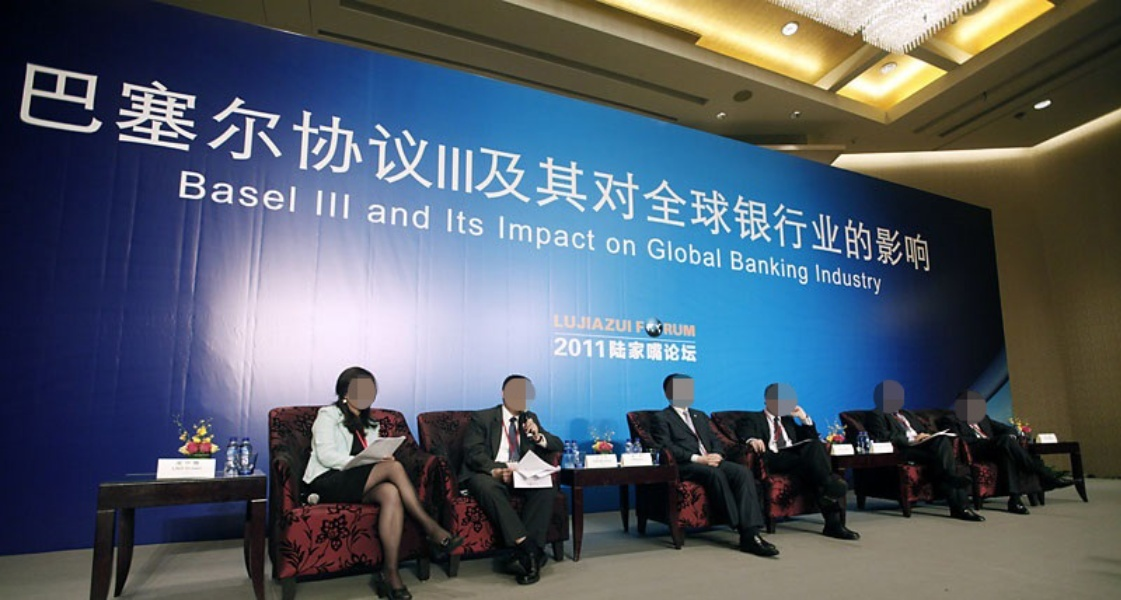text: (33, 57, 48, 278), (49, 57, 64, 278), (65, 57, 80, 278), (81, 57, 96, 278), (97, 57, 112, 278), (113, 57, 128, 278), (129, 57, 144, 278), (145, 57, 160, 278), (161, 57, 176, 278), (177, 57, 192, 278), (193, 57, 208, 278), (209, 57, 224, 278), (225, 57, 240, 278), (241, 57, 256, 278), (257, 57, 272, 278), (273, 57, 288, 278), (289, 57, 304, 278), (305, 57, 320, 278), (321, 57, 336, 278), (337, 57, 352, 278), (353, 57, 368, 278), (369, 57, 384, 278), (385, 57, 400, 278), (401, 57, 416, 278), (417, 57, 432, 278), (433, 57, 448, 278), (449, 57, 464, 278), (465, 57, 480, 278), (481, 57, 496, 278), (497, 57, 512, 278), (513, 57, 528, 278), (529, 57, 544, 278), (545, 57, 560, 278), (561, 57, 576, 278), (577, 57, 592, 278), (593, 57, 608, 278), (609, 57, 624, 278), (625, 57, 640, 278), (641, 57, 656, 278), (657, 57, 672, 278), (673, 57, 688, 278), (689, 57, 704, 278), (705, 57, 720, 278), (721, 57, 736, 278), (737, 57, 752, 278), (753, 57, 768, 278), (769, 57, 784, 278), (785, 57, 800, 278), (801, 57, 816, 278), (817, 57, 832, 278), (833, 57, 848, 278), (849, 57, 864, 278), (865, 57, 880, 278), (881, 57, 896, 278), (897, 57, 912, 278), (913, 57, 928, 278), (22, 57, 32, 278), (929, 57, 935, 278), (193, 169, 208, 218), (209, 169, 224, 218), (225, 169, 240, 218), (241, 169, 256, 218), (257, 169, 272, 218), (273, 169, 288, 218), (178, 169, 192, 218), (289, 169, 302, 218), (513, 214, 528, 256), (529, 214, 544, 256), (545, 214, 560, 256), (561, 214, 576, 256), (577, 214, 592, 256), (737, 249, 752, 288), (753, 249, 768, 288), (769, 249, 784, 288), (785, 249, 800, 288), (499, 214, 512, 256), (369, 197, 384, 232), (385, 197, 400, 232), (401, 197, 416, 232), (417, 197, 432, 232), (657, 236, 672, 271), (673, 236, 688, 271), (689, 236, 704, 271), (705, 236, 720, 271), (817, 263, 832, 298), (833, 263, 848, 298), (849, 263, 864, 298), (865, 263, 880, 298), (321, 188, 336, 222), (337, 188, 352, 222), (449, 207, 464, 237), (465, 207, 480, 237), (561, 337, 576, 365), (577, 337, 592, 365), (593, 337, 608, 365), (609, 337, 624, 365), (625, 337, 640, 365), (641, 337, 656, 365), (657, 337, 672, 365), (673, 337, 688, 365), (561, 313, 576, 334), (577, 313, 592, 334), (593, 313, 608, 334), (609, 313, 624, 334), (609, 237, 624, 258), (801, 249, 809, 288), (625, 237, 639, 258), (648, 236, 656, 271), (689, 337, 698, 365), (673, 323, 688, 338), (553, 337, 560, 365), (731, 249, 736, 288), (625, 313, 634, 334), (481, 207, 487, 237), (593, 214, 597, 256), (721, 236, 725, 271), (316, 188, 320, 222), (554, 313, 560, 334), (665, 323, 672, 338), (689, 323, 696, 338), (881, 263, 883, 298), (641, 320, 645, 334), (637, 320, 640, 334), (447, 207, 448, 237), (607, 237, 608, 258)
